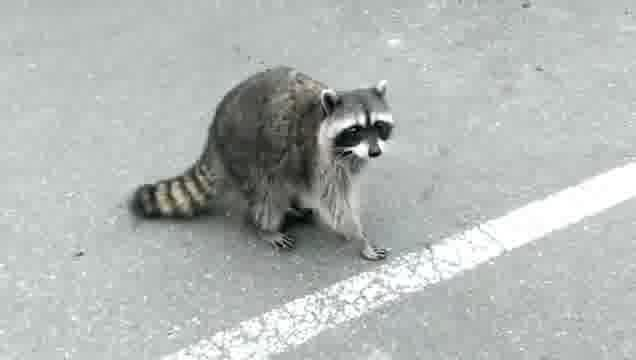raccoon: (132, 66, 394, 261)
